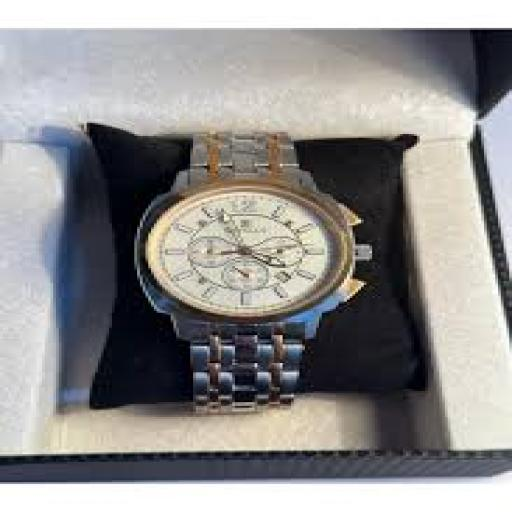KolSaati: (110, 81, 411, 440)
